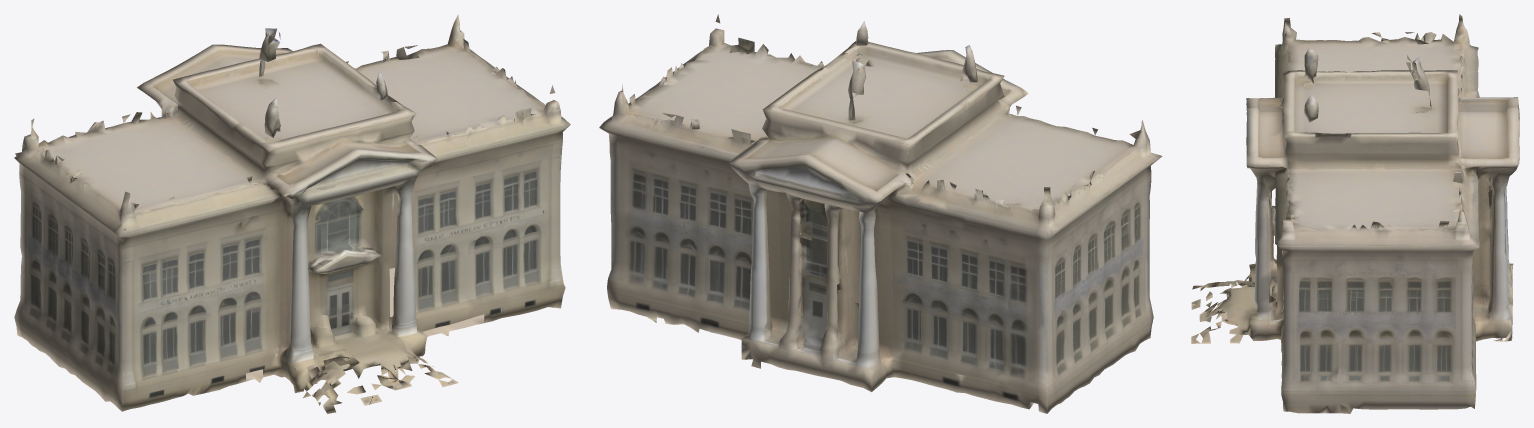
3 views of the same model, side by side, from view 1: azimuth 30°, elevation 25°; view 2: azimuth 150°, elevation 25°; view 3: azimuth 270°, elevation 25° (orthographic). The views are drawn at different scales.
Size of the model in its own units: 2 by 1.19 by 1.37.
Materials: 1 (1 with a texture image).
